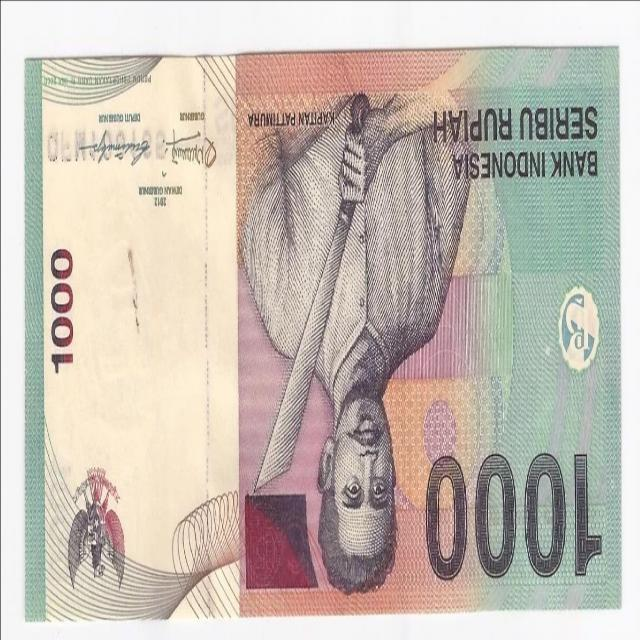1000IndonesianRupiah: (20, 47, 618, 605)
